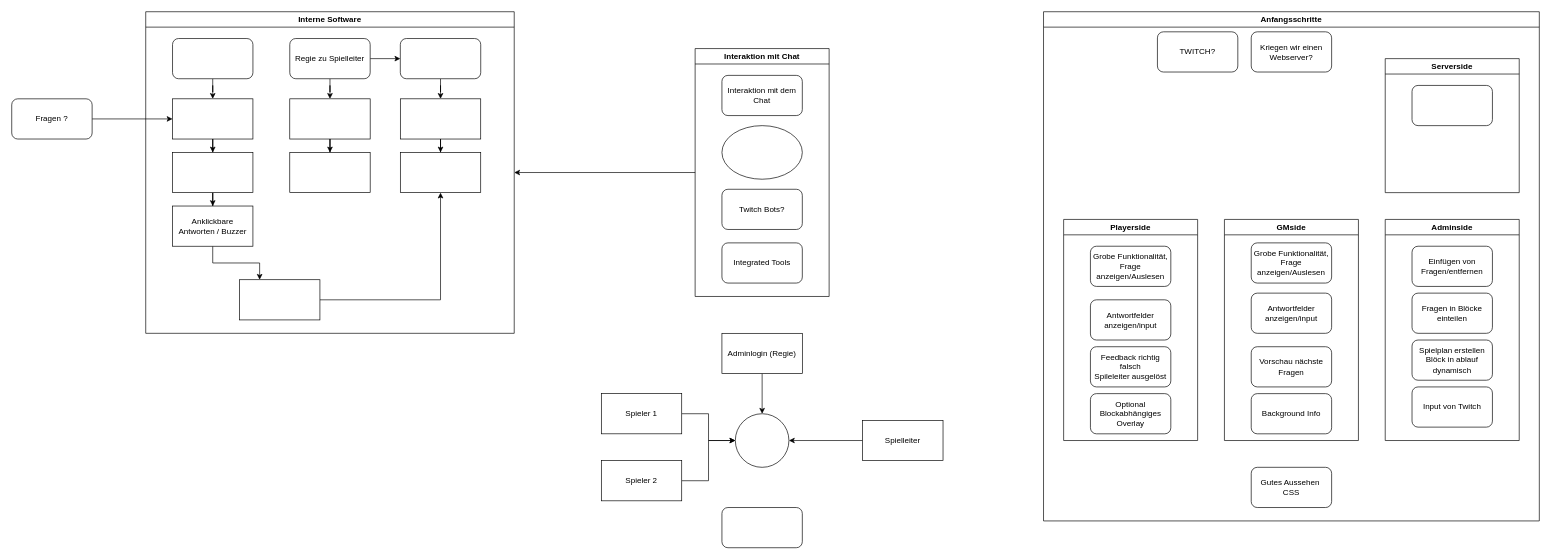
This 1551x559 diagram has some shape labels left out. The centre of each missing label's shape, as x and y in pixels:
"Abbilden der Frage" goes at point 212,172.
"Administratorinterfacer" goes at point 329,118.
"Ansicht von Fragen und Antworten" goes at point 440,172.
"Blöcke erstellen, Fragen hinzufügen/entfernen" goes at point 329,172.
"Forced Reload?" goes at point 761,527.
"Interaktion mit dem Spielleiter" goes at point 440,58.
"Interaktion zwischen den Spielern" goes at point 212,58.
"Kommunikation mehrerer mit dem Server verbundenen Geräte" goes at point 1451,105.
"LeiterInterface" goes at point 440,118.
"Reaktion auf Antwort/Buzzer" goes at point 279,299.
"Spielinterface" goes at point 212,118.
"Twitch Chat" goes at point 761,152.
"Webserver" goes at point 762,440.
